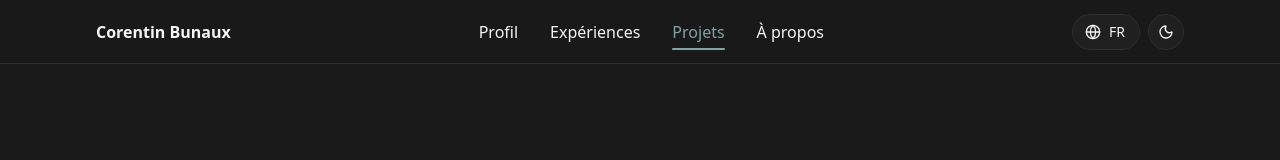
Test: SiteHeader — language menu › opens, switches to English, persists and closes, returning focus
Click the button "fr" at (1106, 32), box [1072, 14, 1140, 50]
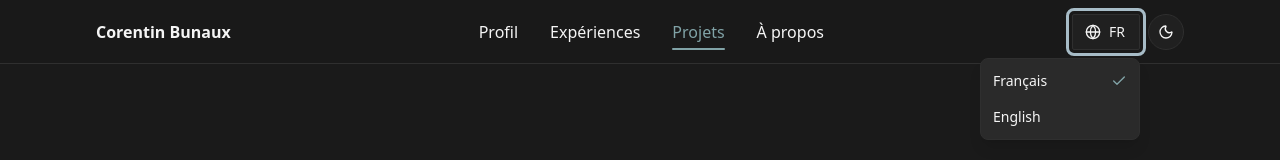
Click the button "English" at (1060, 116), box [981, 98, 1139, 134]
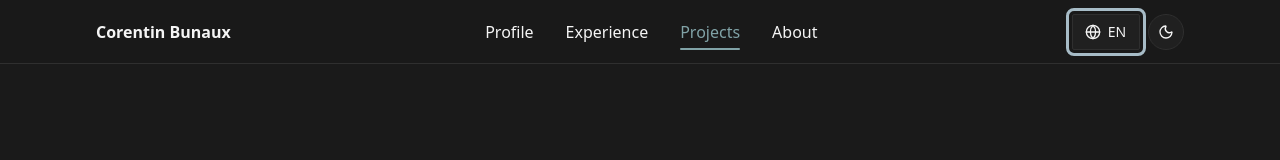
Check: the button "English" is gone
Check: the link "Experience" is shown, box [566, 16, 648, 48]
